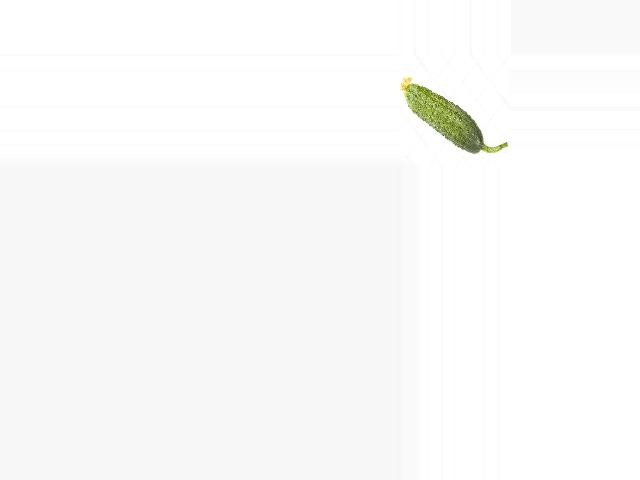cucumber: (399, 76, 506, 154)
